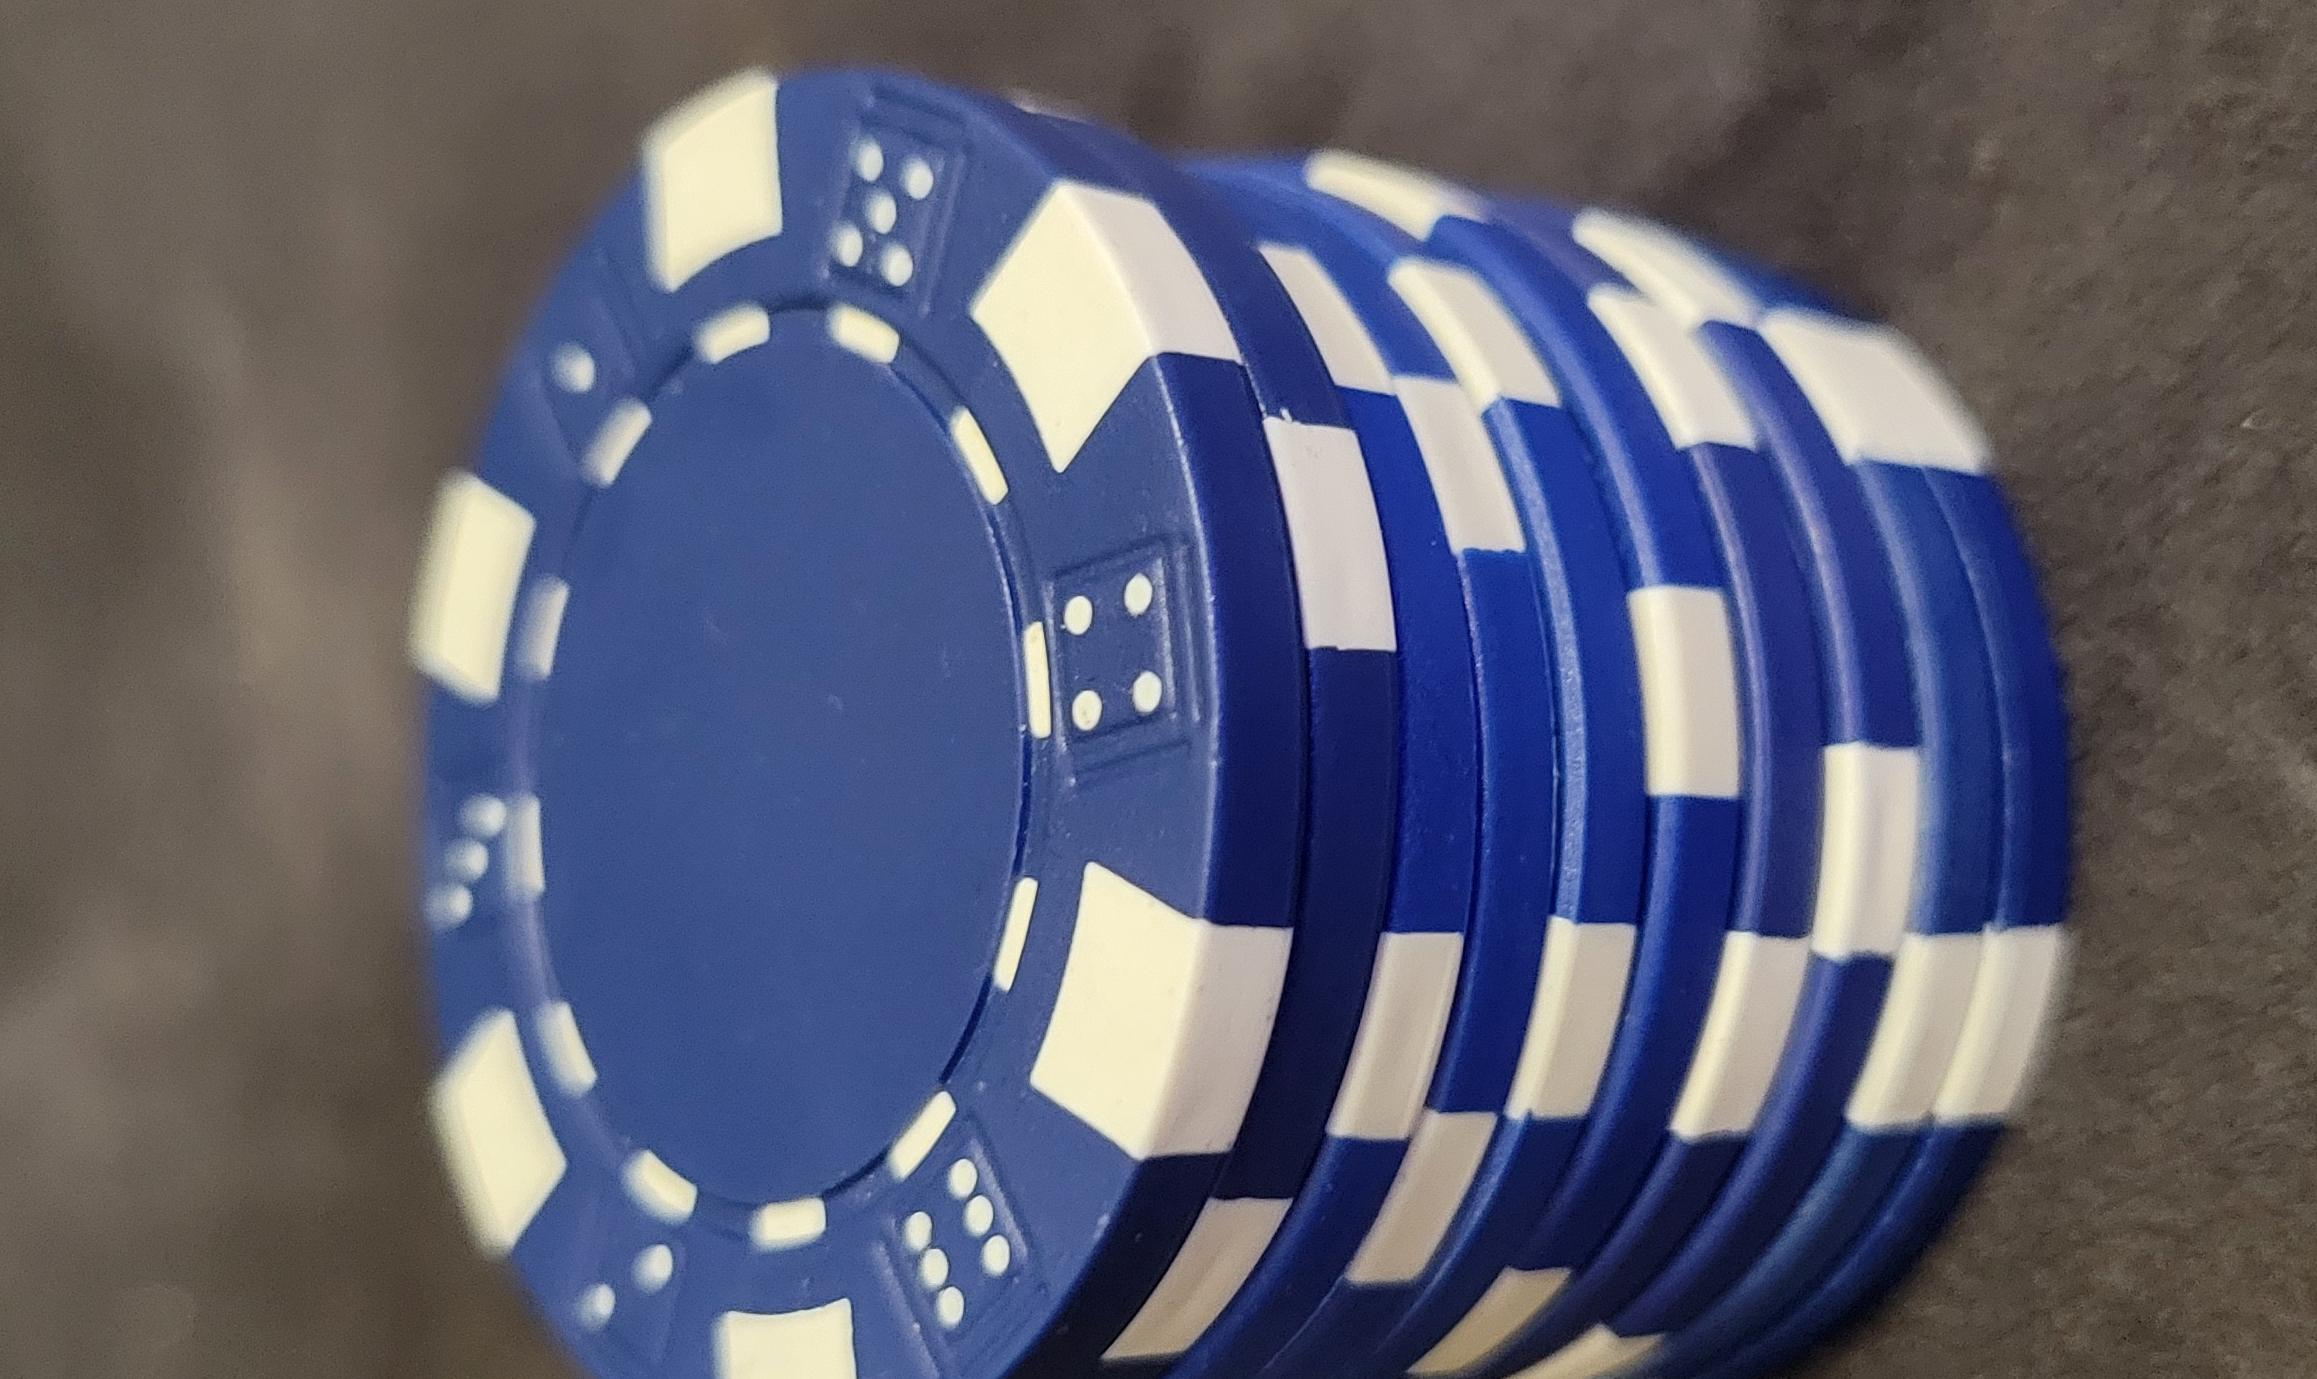Chip: (2, 254, 1547, 1379)
